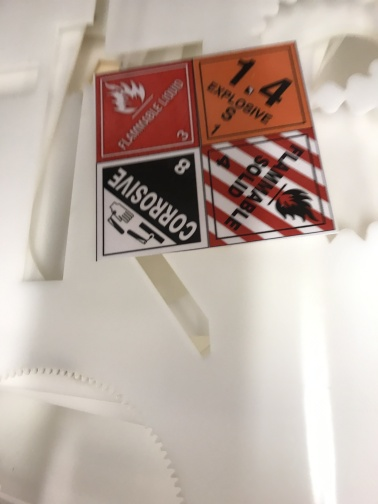Corrosive: (96, 148, 208, 261)
Explosive: (192, 40, 313, 142)
FlammableLiquid: (94, 60, 201, 161)
FlammableSolid: (200, 127, 336, 247)
